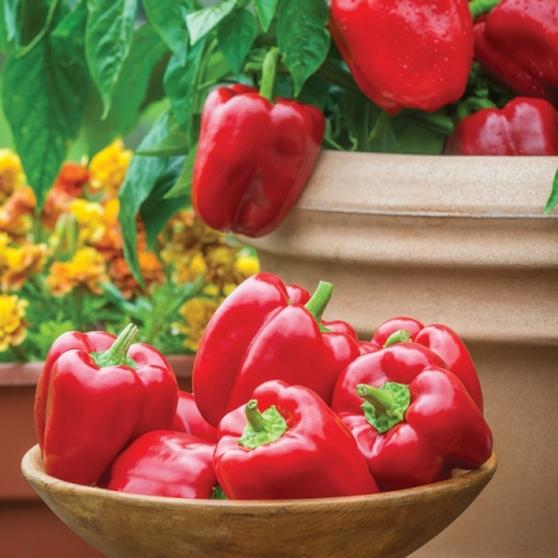pepper: (186, 76, 322, 241)
